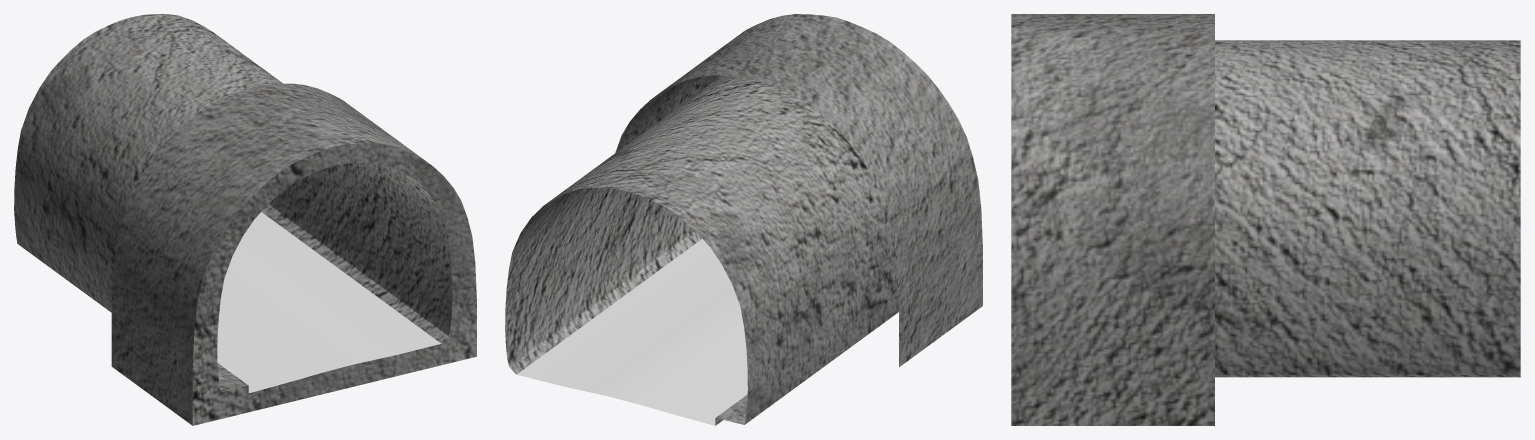
The model's file is Tunnel Entry.fbx.
3 renders of one model, left to right at view 1: azimuth 30°, elevation 25°; view 2: azimuth 150°, elevation 25°; view 3: azimuth 270°, elevation 25°, orthographic. The views are drawn at different scales.
Visible parts, largest first — view 1: Tunnel Entry; view 2: Tunnel Entry; view 3: Tunnel Entry.
Part boxes in pixels (x1,y1,x2,y2): Tunnel Entry: (14, 14, 476, 425); Tunnel Entry: (505, 14, 982, 425); Tunnel Entry: (1011, 14, 1520, 425).
Size of the model in its own units: 1009 by 831 by 1250.
